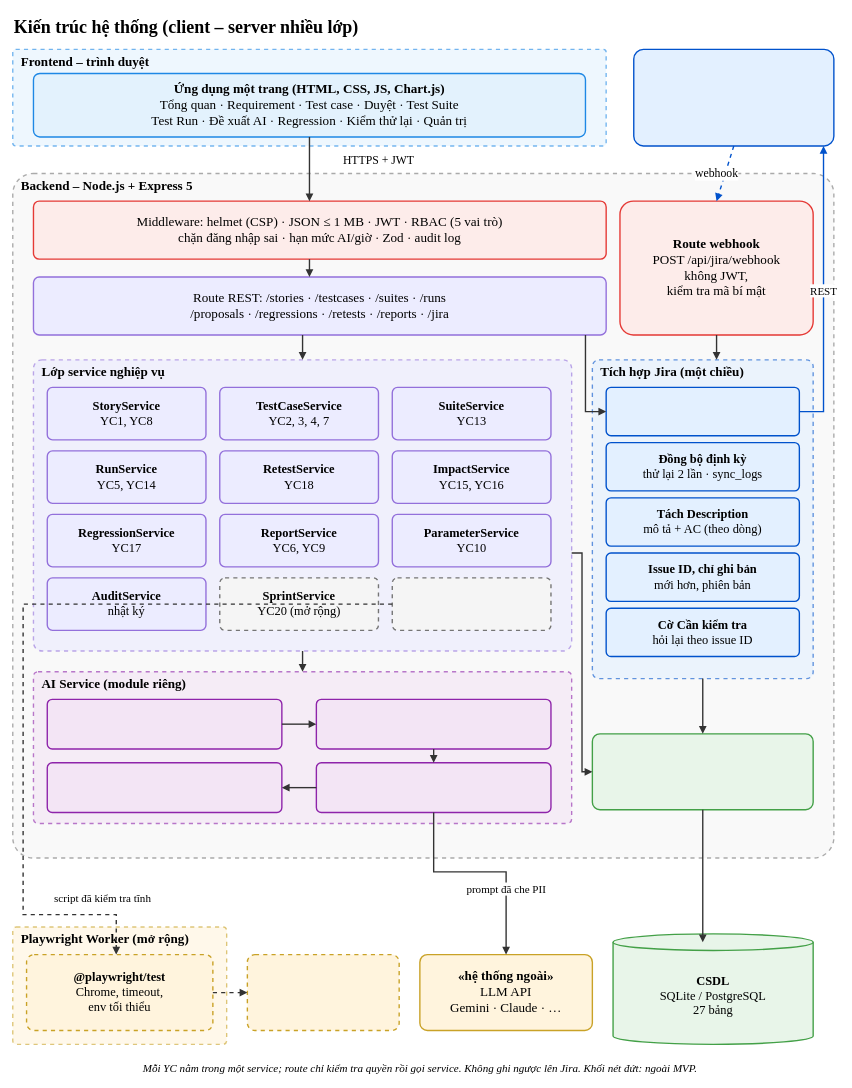
Some shapes in this 852 by 1088 pixel diagram are drawn without their labels. The centre of each missing label's shape, as x and y in pixels:
Che dữ liệu nhạy cảm (PII): point 164,723
Chống prompt injection, ghép prompt (3 tác vụ): point 433,723
JiraService YC1, YC8, YC12: point 702,411
Kiểm tra JSON schema, thử lại: point 164,787
LLMProvider (Strategy): point 433,787
ScriptService YC19 (mở rộng): point 471,604
Truy cập dữ liệu better-sqlite3, prepared statement: point 702,771
«hệ thống ngoài» Jira Cloud REST API · webhook: point 733,97
«hệ thống ngoài» Web cần test: point 323,992
